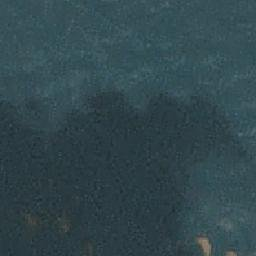debris: (195, 234, 211, 256), (223, 248, 238, 256)
